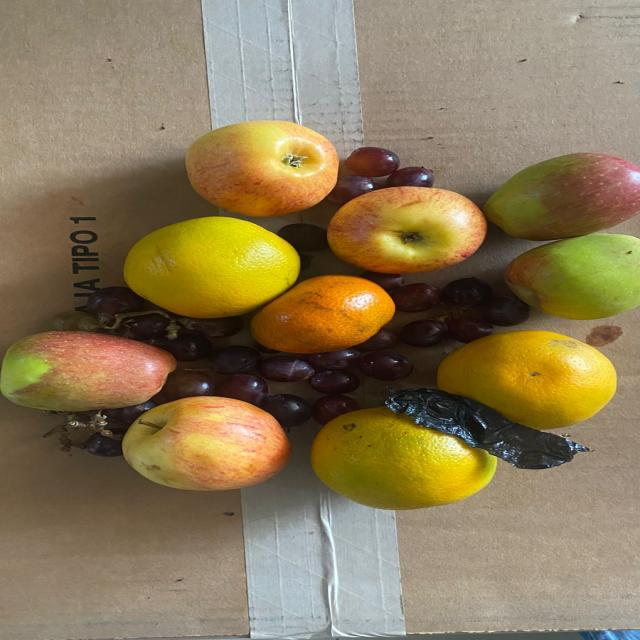bolsa_negra: (387, 389, 580, 472)
